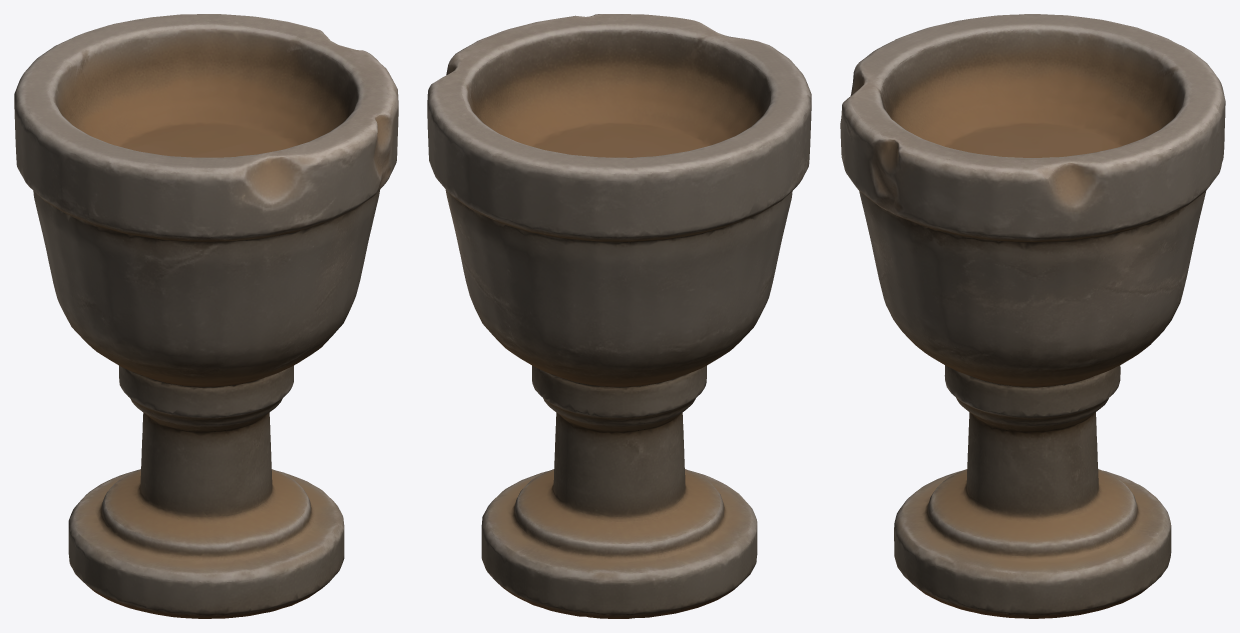
File: crypt_DustyChalice.glb
3 renders of one model, left to right at view 1: azimuth 30°, elevation 25°; view 2: azimuth 150°, elevation 25°; view 3: azimuth 270°, elevation 25°, orthographic.
Parts seen in each view (by area): view 1: world; view 2: world; view 3: world.
Boxes of the visible parts, bbox=[...] form: world: bbox=[14, 14, 398, 618]; world: bbox=[427, 14, 811, 618]; world: bbox=[840, 14, 1225, 618].
Bounding box in the file's own units: 0.7401 × 1 × 0.7388.
Materials: 1 (1 with a texture image).
